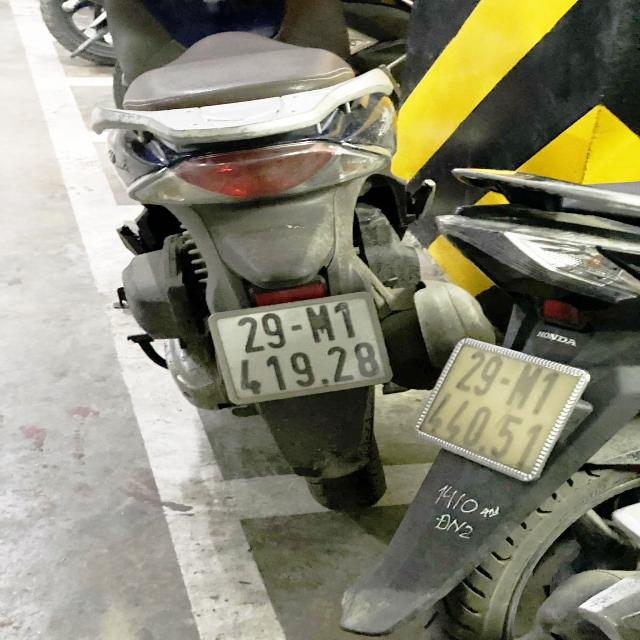license_plate: (413, 333, 596, 478), (216, 287, 396, 405)
